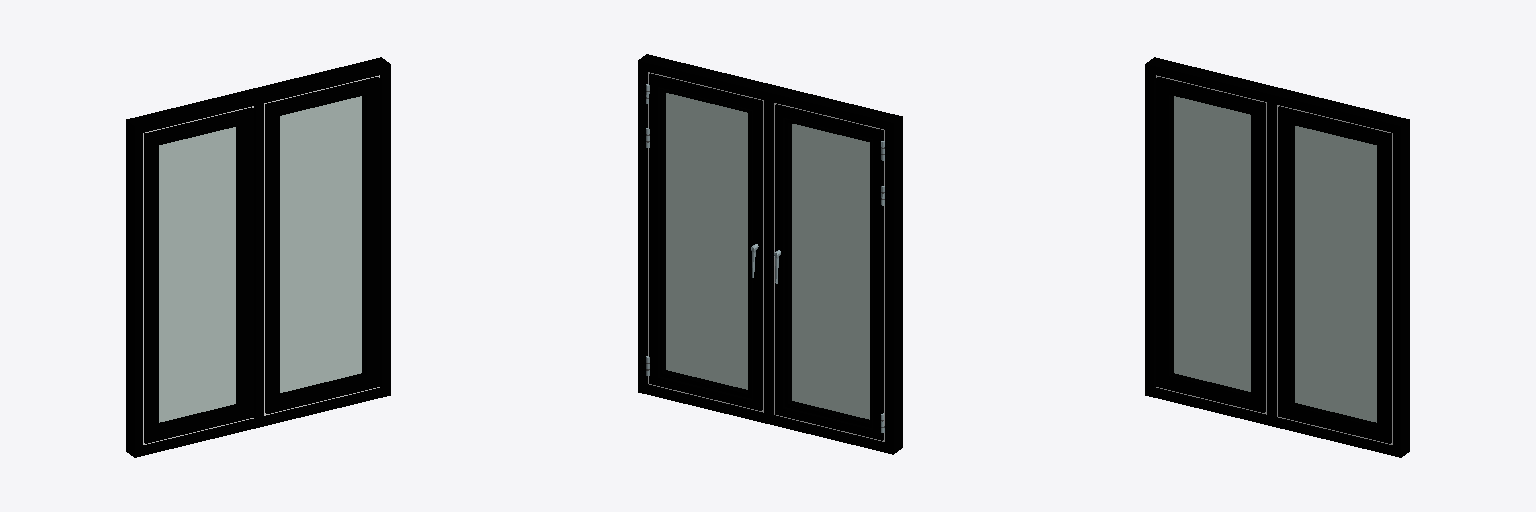
3 renders of one model, left to right at view 1: azimuth 30°, elevation 25°; view 2: azimuth 150°, elevation 25°; view 3: azimuth 330°, elevation 25°, orthographic.
Visible parts, largest first — view 1: group[number redacted], group[number redacted], group[number redacted], group[number redacted], group[number redacted], group[number redacted], group[number redacted], group[number redacted], group[number redacted], group[number redacted], group[number redacted], group[number redacted] (+3 smaller); view 2: group[number redacted], group[number redacted], group[number redacted], group[number redacted], group[number redacted], group[number redacted], group[number redacted], group[number redacted], group[number redacted], group[number redacted], group[number redacted], group[number redacted] (+5 smaller); view 3: group[number redacted], group[number redacted], group[number redacted], group[number redacted], group[number redacted], group[number redacted], group[number redacted], group[number redacted], group[number redacted], group[number redacted], group[number redacted], group[number redacted] (+3 smaller).
Part boxes in pixels (bbox=[...]): group[number redacted]: bbox=[280, 96, 361, 392]; group[number redacted]: bbox=[159, 127, 235, 422]; group[number redacted]: bbox=[126, 118, 142, 457]; group[number redacted]: bbox=[236, 107, 253, 409]; group[number redacted]: bbox=[362, 77, 379, 389]; group[number redacted]: bbox=[144, 131, 158, 443]; group[number redacted]: bbox=[127, 57, 390, 134]; group[number redacted]: bbox=[265, 101, 279, 402]; group[number redacted]: bbox=[380, 65, 390, 388]; group[number redacted]: bbox=[254, 104, 263, 422]; group[number redacted]: bbox=[143, 387, 390, 455]; group[number redacted]: bbox=[265, 373, 366, 413]; group[number redacted]: bbox=[666, 93, 747, 389]; group[number redacted]: bbox=[792, 124, 869, 419]; group[number redacted]: bbox=[885, 114, 902, 454]; group[number redacted]: bbox=[649, 73, 665, 383]; group[number redacted]: bbox=[638, 54, 900, 129]; group[number redacted]: bbox=[775, 104, 791, 403]; group[number redacted]: bbox=[748, 98, 762, 399]; group[number redacted]: bbox=[870, 127, 883, 440]; group[number redacted]: bbox=[764, 95, 773, 419]; group[number redacted]: bbox=[638, 70, 647, 393]; group[number redacted]: bbox=[646, 384, 884, 452]; group[number redacted]: bbox=[650, 370, 762, 410]; group[number redacted]: bbox=[1295, 126, 1376, 422]; group[number redacted]: bbox=[1174, 96, 1250, 391]; group[number redacted]: bbox=[1393, 121, 1409, 457]; group[number redacted]: bbox=[1156, 77, 1173, 389]; group[number redacted]: bbox=[1278, 106, 1294, 407]; group[number redacted]: bbox=[1251, 100, 1265, 401]; group[number redacted]: bbox=[1377, 131, 1391, 443]; group[number redacted]: bbox=[1147, 58, 1409, 132]; group[number redacted]: bbox=[1145, 57, 1162, 397]; group[number redacted]: bbox=[1267, 102, 1276, 421]; group[number redacted]: bbox=[1154, 388, 1400, 457]; group[number redacted]: bbox=[1279, 108, 1389, 148].
Size of the model in its own units: 2.13 by 2.64 by 0.1928.